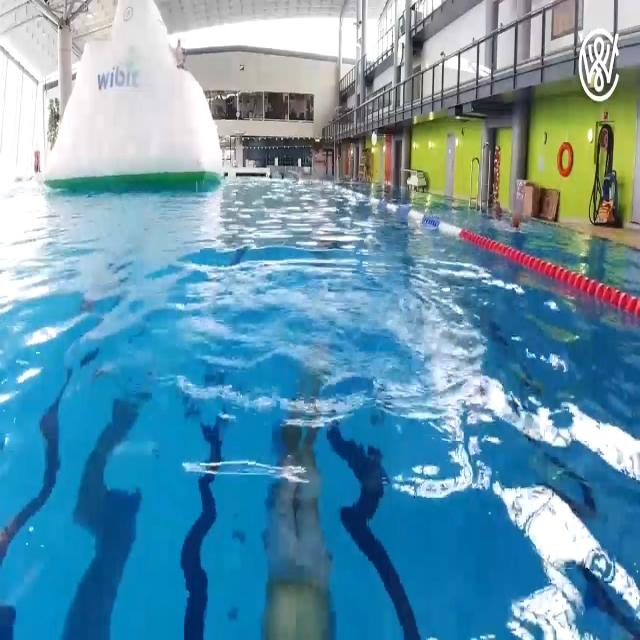Swimming: (263, 413, 335, 640)
